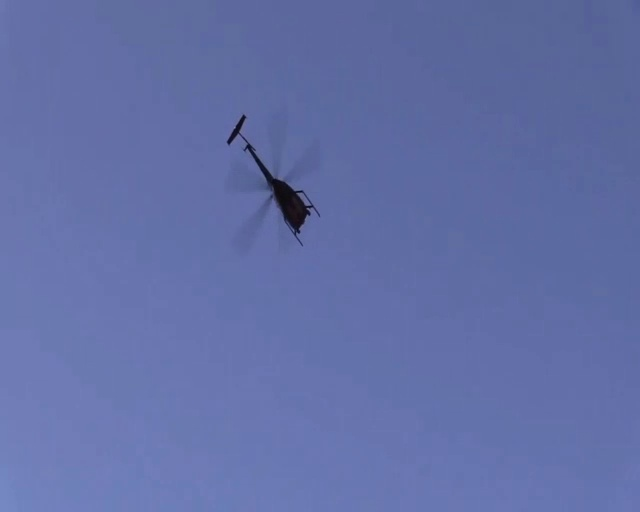HELICOPTER: (224, 109, 324, 249)
